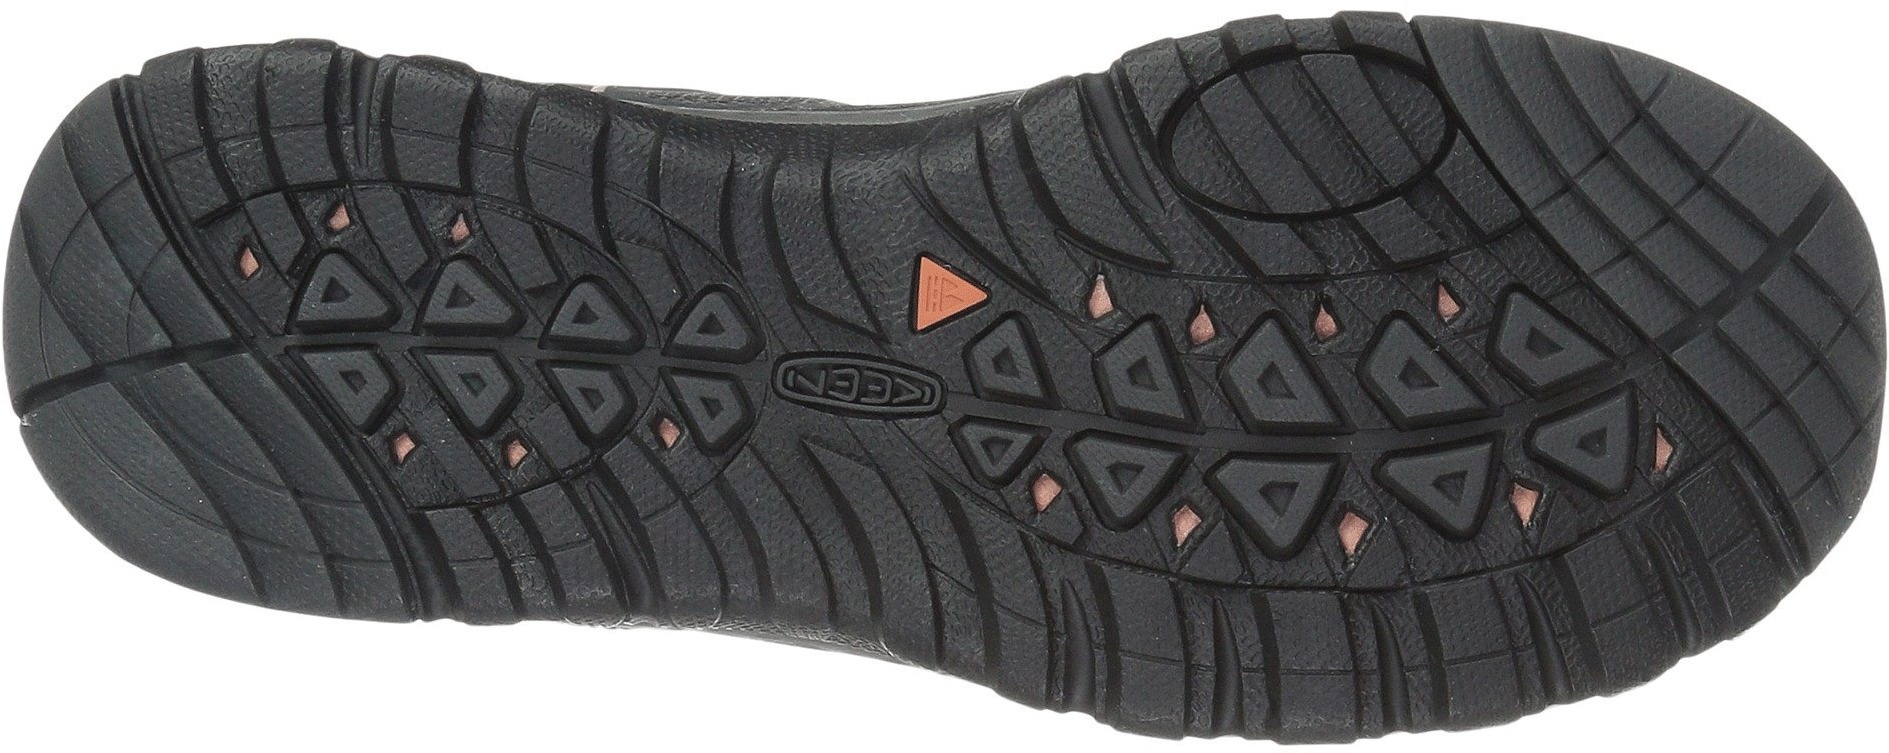quad: (1220, 305, 1493, 567), (540, 261, 767, 473), (106, 372, 320, 560), (1561, 122, 1763, 311), (1175, 65, 1353, 223), (1731, 287, 1881, 422)
text: (870, 345, 948, 426), (799, 339, 859, 408), (920, 266, 961, 318)
triangle: (884, 236, 990, 345), (417, 246, 526, 349)
